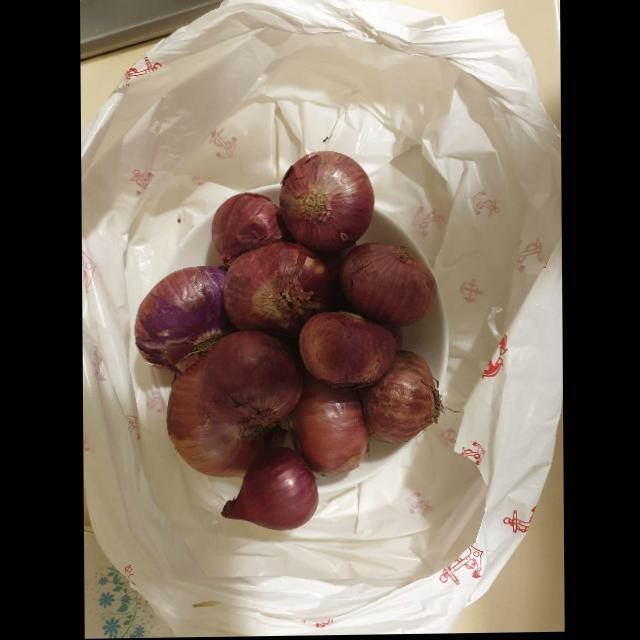biowaste: (166, 360, 262, 478), (133, 267, 225, 378), (279, 152, 374, 254), (223, 243, 329, 331), (200, 333, 303, 423), (339, 244, 437, 329), (223, 451, 319, 533), (290, 379, 368, 477), (358, 352, 439, 444), (298, 313, 396, 389), (211, 194, 282, 267)
